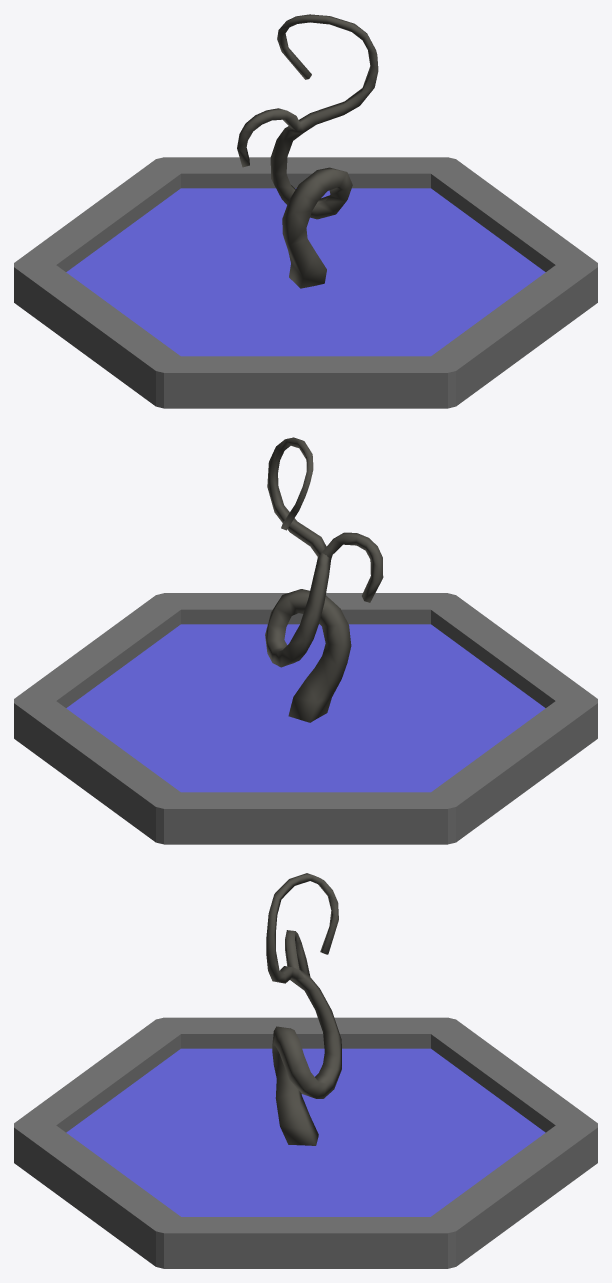
The model's file is fountain.glb.
3 renders of one model, top to bottom at view 1: azimuth 30°, elevation 25°; view 2: azimuth 150°, elevation 25°; view 3: azimuth 270°, elevation 25°, orthographic.
Parts seen in each view (by area): view 1: FountainBase-col, Design-col; view 2: FountainBase-col, Design-col; view 3: FountainBase-col, Design-col.
Boxes of the visible parts, bbox=[...] form: FountainBase-col: bbox=[14, 157, 597, 408]; Design-col: bbox=[237, 14, 378, 288]; FountainBase-col: bbox=[14, 593, 597, 844]; Design-col: bbox=[265, 437, 383, 722]; FountainBase-col: bbox=[14, 1017, 597, 1268]; Design-col: bbox=[266, 873, 341, 1145].
Size of the model in its own units: 25.98 by 16.11 by 29.72.
